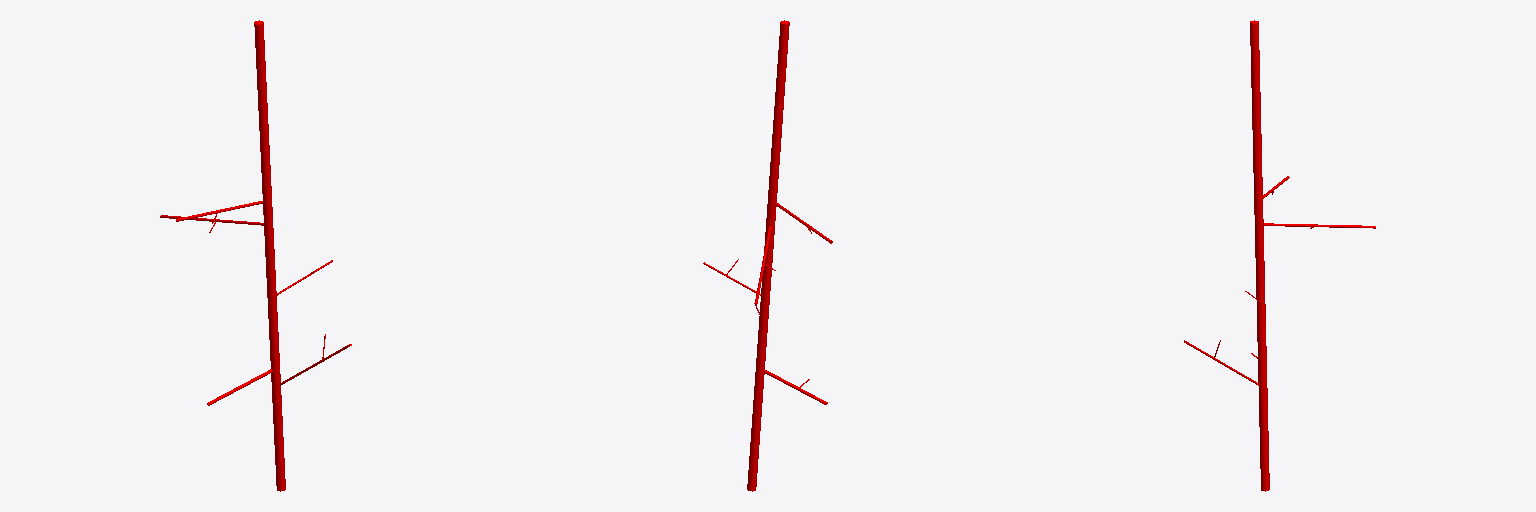
The robot description file, URDF, robot "tree_88.urdf":
<?xml version='1.0' encoding='UTF-8'?>
<robot name="tree_88.urdf">
  <link name="branch_0">
    <inertial>
      <origin xyz="0.0 0.0 0.0" rpy="0.0 -0.0 0.0"/>
      <mass value="0.1"/>
      <inertia ixx="0.001" ixy="0.0" ixz="0.0" iyy="0.001" iyz="0.0" izz="0.001"/>
    </inertial>
    <visual name="branch_0_visual">
      <geometry>
        <cylinder radius="0.07523733552203032" length="8.478342990349292"/>
      </geometry>
      <material name="semantic_material"/>
      <origin xyz="-0.2609158535216996 -0.09313014505838715 4.230109296337824" rpy="6.535076200061977e-18 0.0653986367584422 -2.7987525766647043"/>
    </visual>
    <collision name="branch_0_collision">
      <geometry>
        <cylinder radius="0.07523733552203032" length="8.478342990349292"/>
      </geometry>
      <origin xyz="-0.2609158535216996 -0.09313014505838715 4.230109296337824" rpy="6.535076200061977e-18 0.0653986367584422 -2.7987525766647043"/>
    </collision>
  </link>
  <link name="branch_1">
    <inertial>
      <origin xyz="0.0 0.0 0.0" rpy="0.0 -0.0 0.0"/>
      <mass value="0.1"/>
      <inertia ixx="0.001" ixy="0.0" ixz="0.0" iyy="0.001" iyz="0.0" izz="0.001"/>
    </inertial>
    <visual name="branch_1_visual">
      <geometry>
        <cylinder radius="0.025226891313507457" length="1.5094202725812464"/>
      </geometry>
      <material name="semantic_material"/>
      <origin xyz="0.0 0.0 0.0" rpy="0.0 -0.0 0.0"/>
    </visual>
    <collision name="branch_1_collision">
      <geometry>
        <cylinder radius="0.025226891313507457" length="1.5094202725812464"/>
      </geometry>
      <origin xyz="0.0 0.0 0.0" rpy="0.0 -0.0 0.0"/>
    </collision>
  </link>
  <link name="branch_2">
    <inertial>
      <origin xyz="0.0 0.0 0.0" rpy="0.0 -0.0 0.0"/>
      <mass value="0.1"/>
      <inertia ixx="0.001" ixy="0.0" ixz="0.0" iyy="0.001" iyz="0.0" izz="0.001"/>
    </inertial>
    <visual name="branch_2_visual">
      <geometry>
        <cylinder radius="0.01" length="0.2128515402832433"/>
      </geometry>
      <material name="semantic_material"/>
      <origin xyz="0.0 0.0 0.0" rpy="0.0 -0.0 0.0"/>
    </visual>
    <collision name="branch_2_collision">
      <geometry>
        <cylinder radius="0.01" length="0.2128515402832433"/>
      </geometry>
      <origin xyz="0.0 0.0 0.0" rpy="0.0 -0.0 0.0"/>
    </collision>
  </link>
  <link name="branch_3">
    <inertial>
      <origin xyz="0.0 0.0 0.0" rpy="0.0 -0.0 0.0"/>
      <mass value="0.1"/>
      <inertia ixx="0.001" ixy="0.0" ixz="0.0" iyy="0.001" iyz="0.0" izz="0.001"/>
    </inertial>
    <visual name="branch_3_visual">
      <geometry>
        <cylinder radius="0.02842514737855934" length="1.3010410992726402"/>
      </geometry>
      <material name="semantic_material"/>
      <origin xyz="0.0 0.0 0.0" rpy="0.0 -0.0 0.0"/>
    </visual>
    <collision name="branch_3_collision">
      <geometry>
        <cylinder radius="0.02842514737855934" length="1.3010410992726402"/>
      </geometry>
      <origin xyz="0.0 0.0 0.0" rpy="0.0 -0.0 0.0"/>
    </collision>
  </link>
  <link name="branch_4">
    <inertial>
      <origin xyz="0.0 0.0 0.0" rpy="0.0 -0.0 0.0"/>
      <mass value="0.1"/>
      <inertia ixx="0.001" ixy="0.0" ixz="0.0" iyy="0.001" iyz="0.0" izz="0.001"/>
    </inertial>
    <visual name="branch_4_visual">
      <geometry>
        <cylinder radius="0.011256926226900789" length="0.24454670560284403"/>
      </geometry>
      <material name="semantic_material"/>
      <origin xyz="0.0 0.0 0.0" rpy="0.0 -0.0 0.0"/>
    </visual>
    <collision name="branch_4_collision">
      <geometry>
        <cylinder radius="0.011256926226900789" length="0.24454670560284403"/>
      </geometry>
      <origin xyz="0.0 0.0 0.0" rpy="0.0 -0.0 0.0"/>
    </collision>
  </link>
  <link name="branch_5">
    <inertial>
      <origin xyz="0.0 0.0 0.0" rpy="0.0 -0.0 0.0"/>
      <mass value="0.1"/>
      <inertia ixx="0.001" ixy="0.0" ixz="0.0" iyy="0.001" iyz="0.0" izz="0.001"/>
    </inertial>
    <visual name="branch_5_visual">
      <geometry>
        <cylinder radius="0.019565581143805705" length="1.8505749557564664"/>
      </geometry>
      <material name="semantic_material"/>
      <origin xyz="0.0 0.0 0.0" rpy="0.0 -0.0 0.0"/>
    </visual>
    <collision name="branch_5_collision">
      <geometry>
        <cylinder radius="0.019565581143805705" length="1.8505749557564664"/>
      </geometry>
      <origin xyz="0.0 0.0 0.0" rpy="0.0 -0.0 0.0"/>
    </collision>
  </link>
  <link name="branch_6">
    <inertial>
      <origin xyz="0.0 0.0 0.0" rpy="0.0 -0.0 0.0"/>
      <mass value="0.1"/>
      <inertia ixx="0.001" ixy="0.0" ixz="0.0" iyy="0.001" iyz="0.0" izz="0.001"/>
    </inertial>
    <visual name="branch_6_visual">
      <geometry>
        <cylinder radius="0.01" length="0.4247090492063755"/>
      </geometry>
      <material name="semantic_material"/>
      <origin xyz="0.0 0.0 0.0" rpy="0.0 -0.0 0.0"/>
    </visual>
    <collision name="branch_6_collision">
      <geometry>
        <cylinder radius="0.01" length="0.4247090492063755"/>
      </geometry>
      <origin xyz="0.0 0.0 0.0" rpy="0.0 -0.0 0.0"/>
    </collision>
  </link>
  <link name="branch_7">
    <inertial>
      <origin xyz="0.0 0.0 0.0" rpy="0.0 -0.0 0.0"/>
      <mass value="0.1"/>
      <inertia ixx="0.001" ixy="0.0" ixz="0.0" iyy="0.001" iyz="0.0" izz="0.001"/>
    </inertial>
    <visual name="branch_7_visual">
      <geometry>
        <cylinder radius="0.01662820737459357" length="1.2031372386089583"/>
      </geometry>
      <material name="semantic_material"/>
      <origin xyz="0.0 0.0 0.0" rpy="0.0 -0.0 0.0"/>
    </visual>
    <collision name="branch_7_collision">
      <geometry>
        <cylinder radius="0.01662820737459357" length="1.2031372386089583"/>
      </geometry>
      <origin xyz="0.0 0.0 0.0" rpy="0.0 -0.0 0.0"/>
    </collision>
  </link>
  <link name="branch_8">
    <inertial>
      <origin xyz="0.0 0.0 0.0" rpy="0.0 -0.0 0.0"/>
      <mass value="0.1"/>
      <inertia ixx="0.001" ixy="0.0" ixz="0.0" iyy="0.001" iyz="0.0" izz="0.001"/>
    </inertial>
    <visual name="branch_8_visual">
      <geometry>
        <cylinder radius="0.01" length="0.3550404221019612"/>
      </geometry>
      <material name="semantic_material"/>
      <origin xyz="0.0 0.0 0.0" rpy="0.0 -0.0 0.0"/>
    </visual>
    <collision name="branch_8_collision">
      <geometry>
        <cylinder radius="0.01" length="0.3550404221019612"/>
      </geometry>
      <origin xyz="0.0 0.0 0.0" rpy="0.0 -0.0 0.0"/>
    </collision>
  </link>
  <link name="branch_9">
    <inertial>
      <origin xyz="0.0 0.0 0.0" rpy="0.0 -0.0 0.0"/>
      <mass value="0.1"/>
      <inertia ixx="0.001" ixy="0.0" ixz="0.0" iyy="0.001" iyz="0.0" izz="0.001"/>
    </inertial>
    <visual name="branch_9_visual">
      <geometry>
        <cylinder radius="0.02311962422341027" length="2.191279538305315"/>
      </geometry>
      <material name="semantic_material"/>
      <origin xyz="0.0 0.0 0.0" rpy="0.0 -0.0 0.0"/>
    </visual>
    <collision name="branch_9_collision">
      <geometry>
        <cylinder radius="0.02311962422341027" length="2.191279538305315"/>
      </geometry>
      <origin xyz="0.0 0.0 0.0" rpy="0.0 -0.0 0.0"/>
    </collision>
  </link>
  <link name="branch_10">
    <inertial>
      <origin xyz="0.0 0.0 0.0" rpy="0.0 -0.0 0.0"/>
      <mass value="0.1"/>
      <inertia ixx="0.001" ixy="0.0" ixz="0.0" iyy="0.001" iyz="0.0" izz="0.001"/>
    </inertial>
    <visual name="branch_10_visual">
      <geometry>
        <cylinder radius="0.01" length="0.2389813742195817"/>
      </geometry>
      <material name="semantic_material"/>
      <origin xyz="0.0 0.0 0.0" rpy="0.0 -0.0 0.0"/>
    </visual>
    <collision name="branch_10_collision">
      <geometry>
        <cylinder radius="0.01" length="0.2389813742195817"/>
      </geometry>
      <origin xyz="0.0 0.0 0.0" rpy="0.0 -0.0 0.0"/>
    </collision>
  </link>
  <joint name="joint_0_1" type="fixed">
    <parent link="branch_0"/>
    <child link="branch_1"/>
    <axis xyz="1. 0. 0."/>
    <origin xyz="-1.026331217299192 0.1341392327078852 5.116860070364033" rpy="-2.8649825592003912 1.4201098498797193 -0.06058545042783283"/>
  </joint>
  <joint name="joint_0_3" type="fixed">
    <parent link="branch_0"/>
    <child link="branch_3"/>
    <axis xyz="1. 0. 0."/>
    <origin xyz="-0.7625343832511898 -0.04885957318838676 2.015403112799924" rpy="-3.0596195236615826 1.3041358241902477 0.08612076224590234"/>
  </joint>
  <joint name="joint_0_5" type="fixed">
    <parent link="branch_0"/>
    <child link="branch_5"/>
    <axis xyz="1. 0. 0."/>
    <origin xyz="0.19228171510334416 -0.7033818013610912 2.4271748042107726" rpy="0.10493598614743672 0.9049667323791115 -1.003782996787853"/>
  </joint>
  <joint name="joint_0_7" type="fixed">
    <parent link="branch_0"/>
    <child link="branch_7"/>
    <axis xyz="1. 0. 0."/>
    <origin xyz="0.3577919738415866 -0.058020039152913726 3.6611125497274637" rpy="0.06379405505088032 1.2581090785716798 0.09938455464474859"/>
  </joint>
  <joint name="joint_0_9" type="fixed">
    <parent link="branch_0"/>
    <child link="branch_9"/>
    <axis xyz="1. 0. 0."/>
    <origin xyz="-0.7247378982352288 0.877302411175722 4.5745345821707355" rpy="-2.833851494106212 1.3540780225806461 -0.8448694128941537"/>
  </joint>
  <joint name="joint_1_2" type="fixed">
    <parent link="branch_0"/>
    <child link="branch_2"/>
    <axis xyz="1. 0. 0."/>
    <origin xyz="-1.1444410798693334 0.13521136686320717 5.024360810666516" rpy="2.6239574853250938 0.43344301355362136 -0.6483672523724635"/>
  </joint>
  <joint name="joint_3_4" type="fixed">
    <parent link="branch_0"/>
    <child link="branch_4"/>
    <axis xyz="1. 0. 0."/>
    <origin xyz="-0.8963369846983099 -0.14761125935849742 2.048620133155624" rpy="1.0351343703267073 -0.38420530515851065 -0.19440810104038217"/>
  </joint>
  <joint name="joint_5_6" type="fixed">
    <parent link="branch_0"/>
    <child link="branch_6"/>
    <axis xyz="1. 0. 0."/>
    <origin xyz="0.3233043960361763 -0.810612464360874 2.7637717111051607" rpy="0.3230912802295216 0.20013992994776342 1.8133896869530086"/>
  </joint>
  <joint name="joint_7_8" type="fixed">
    <parent link="branch_0"/>
    <child link="branch_8"/>
    <axis xyz="1. 0. 0."/>
    <origin xyz="0.47779439483321506 -0.19545521444319783 3.810924163344622" rpy="-0.9363689253459003 0.3437354595701499 3.129124818756237"/>
  </joint>
  <joint name="joint_9_10" type="fixed">
    <parent link="branch_0"/>
    <child link="branch_10"/>
    <axis xyz="1. 0. 0."/>
    <origin xyz="-0.7997463802919952 0.8023635401156393 4.5142811623091" rpy="2.1764378788774867 -0.17052187949319977 -1.2127873008456294"/>
  </joint>
  <material name="semantic_material">
    <color rgba="1. 0. 0. 1."/>
  </material>
</robot>

--- Render facts (derived) ---
3 views of the same robot in one strip: view 1: azimuth 30°, elevation 25°; view 2: azimuth 150°, elevation 25°; view 3: azimuth 270°, elevation 25° (orthographic).
Model tree_88.urdf with 11 links and 10 joints (10 fixed), rooted at branch_0, posed all joints at 0.
Visible links, largest first — view 1: branch_0; view 2: branch_0; view 3: branch_0.
Boxes of the visible links, x1,y1,x2,y2 form: branch_0: (254, 20, 285, 491); branch_0: (747, 20, 789, 491); branch_0: (1250, 20, 1269, 491).
Size in the robot's own frame: 2.67 by 3.25 by 8.47 metres.
Geometry: primitives only (box / cylinder / sphere), no mesh files.
